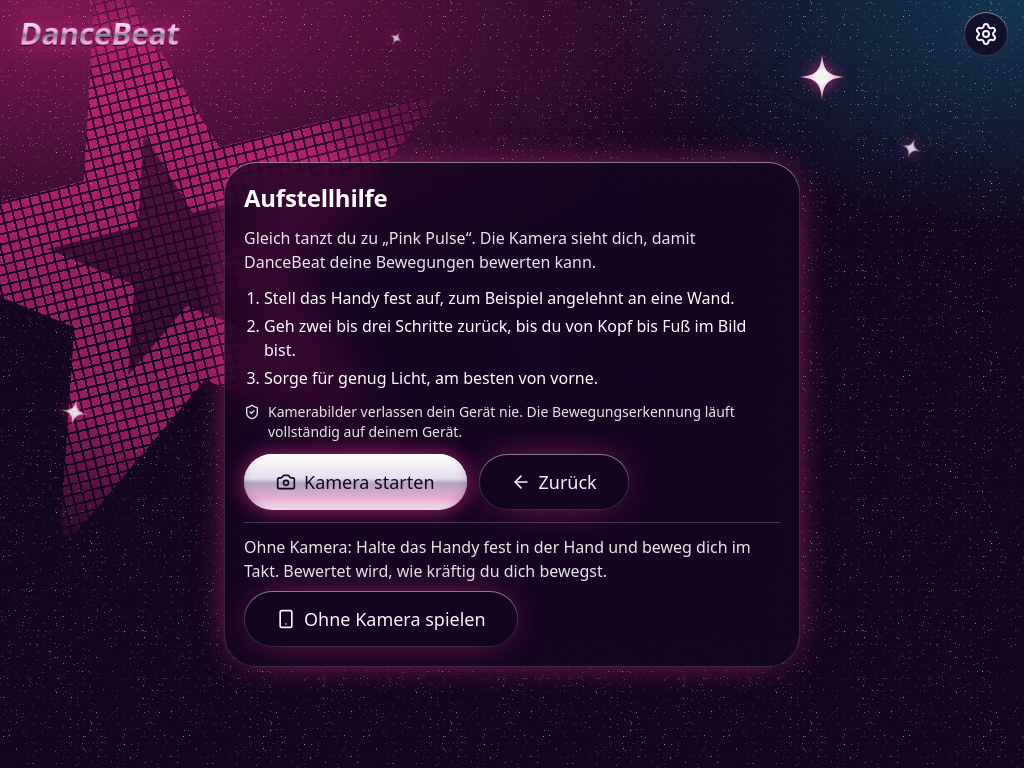
it: Aufstellhilfe: Ohne Kamera spielen › abgelehnt → Meldung, bleibt auf der Aufstellhilfe
Step 1. Click the button "Ohne Kamera spielen" → (381, 618), box 244,590 -> 518,646
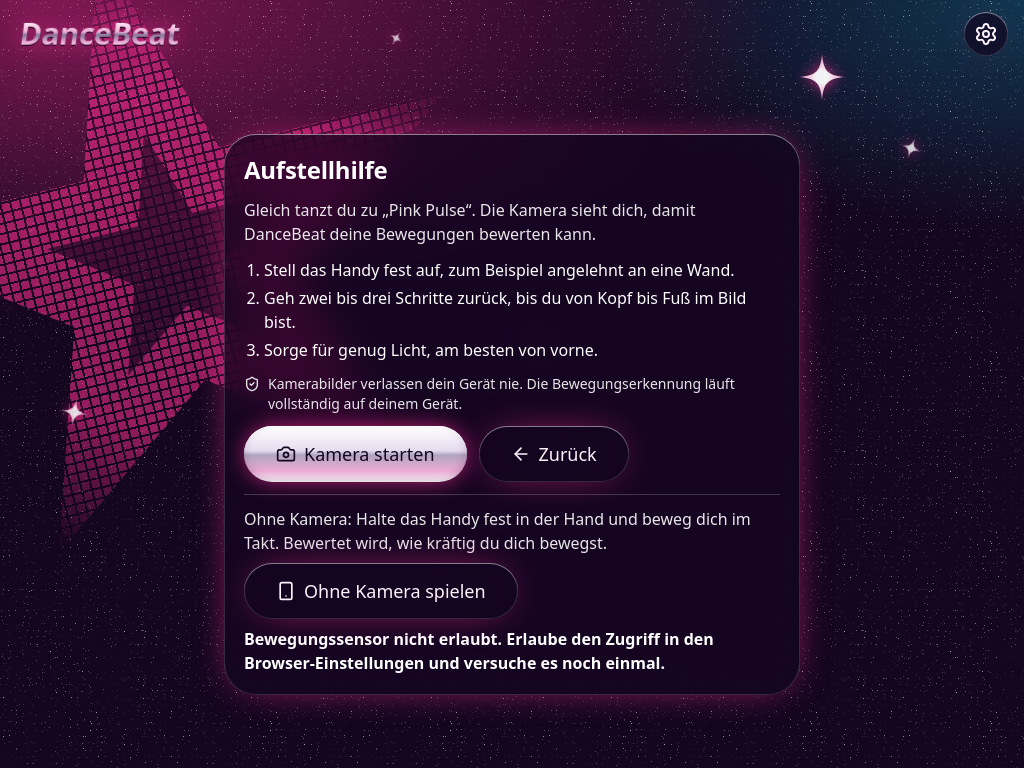
Check: the button "Ohne Kamera spielen" is enabled, box 244,562 -> 518,618
Check: the text "Bewegungssensor nicht erlaubt" is shown, box 244,628 -> 714,674
